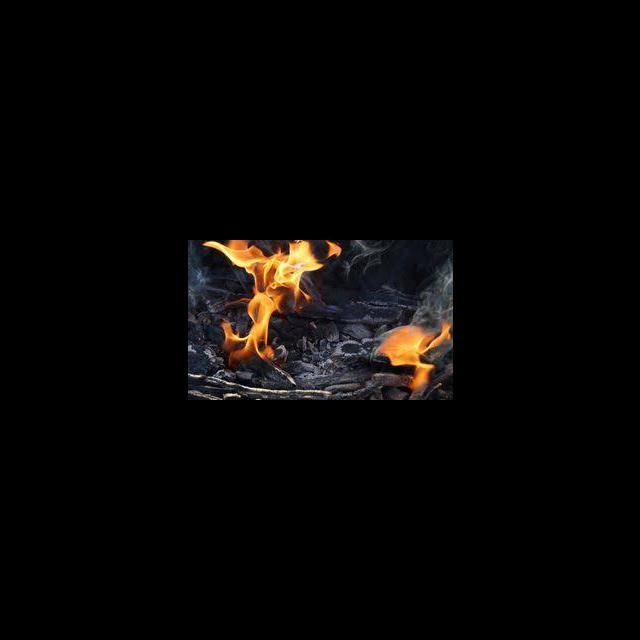Fire: (206, 240, 324, 367), (376, 320, 450, 390), (327, 240, 344, 258)
Smoke: (412, 261, 452, 318), (344, 240, 388, 275), (188, 250, 205, 292)
